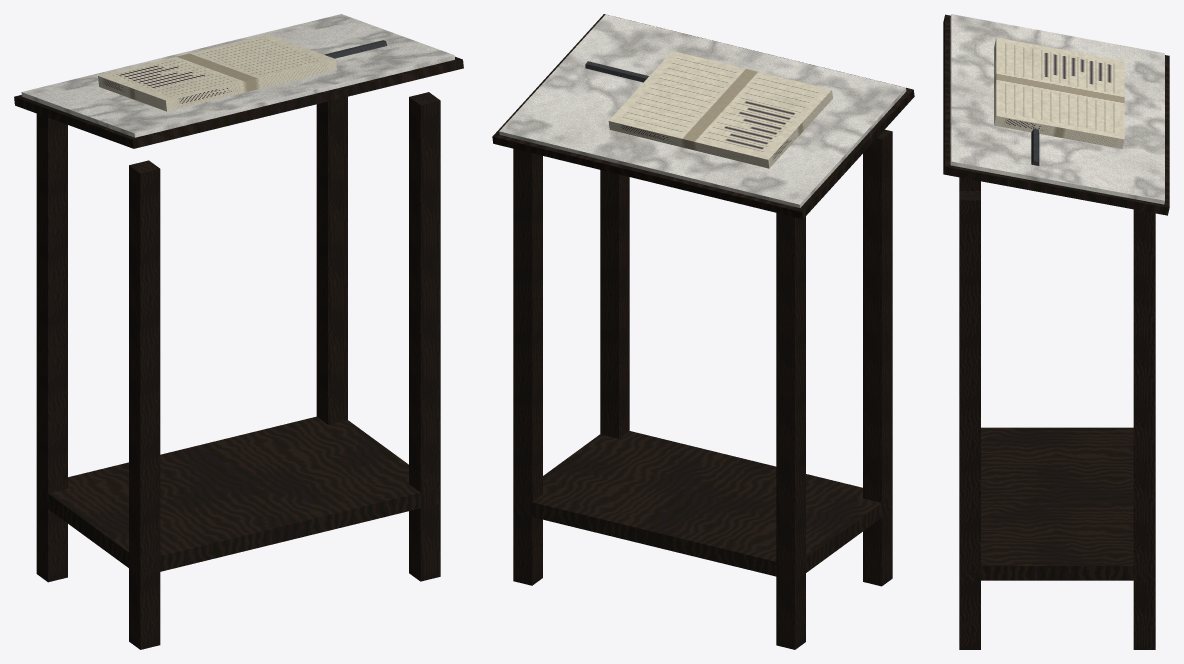
Rendered from guest_book_stand.glb.
3 views of the same model, side by side, from view 1: azimuth 30°, elevation 25°; view 2: azimuth 150°, elevation 25°; view 3: azimuth 270°, elevation 25° (orthographic). The views are drawn at different scales.
Parts seen in each view (by area): view 1: guest_book_stand; view 2: guest_book_stand; view 3: guest_book_stand.
Boxes of the visible parts, x1,y1,x2,y2 form: guest_book_stand: (14, 14, 463, 649); guest_book_stand: (492, 14, 914, 649); guest_book_stand: (943, 14, 1169, 649).
Bounding box in the file's own units: 0.66 × 1 × 0.4148.
4 materials, 4 textured.
